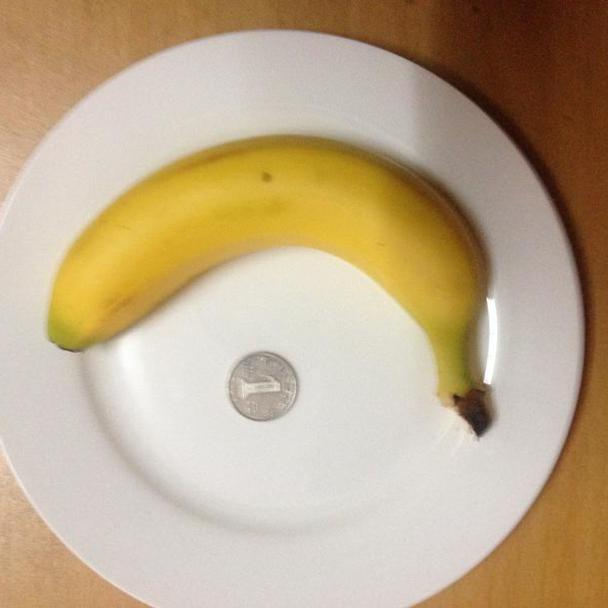banana: (47, 139, 507, 432)
